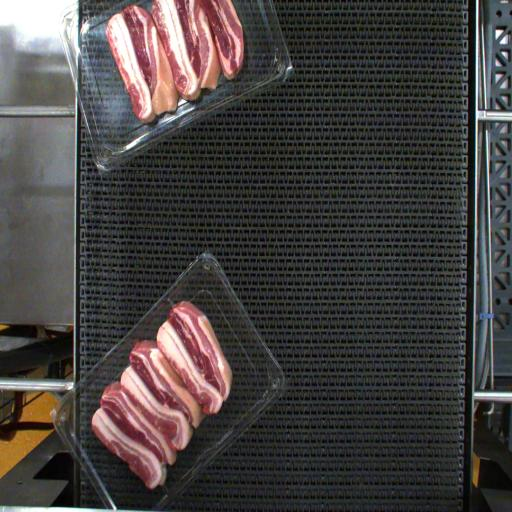packaging-error: (167, 295, 178, 309)
